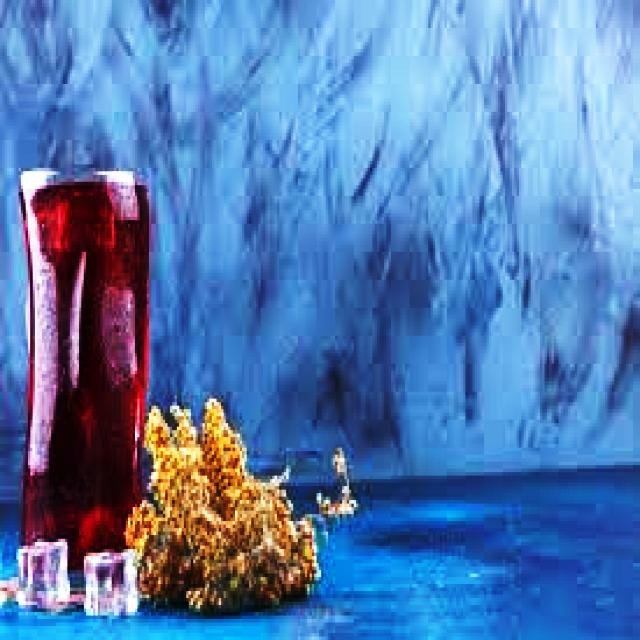drink: (12, 161, 154, 573)
